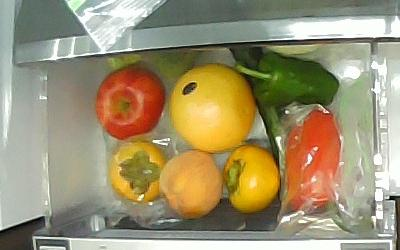apple: (96, 64, 166, 140)
broccoli: (107, 47, 203, 90)
cucumber: (225, 44, 291, 163)
grapefruit: (169, 64, 257, 152)
paprika: (233, 50, 338, 108)
paprika_vinyl: (282, 106, 342, 214)
peach: (158, 150, 223, 218)
persimmon: (224, 146, 280, 212)
persimmon_vinyl: (109, 143, 168, 204)
